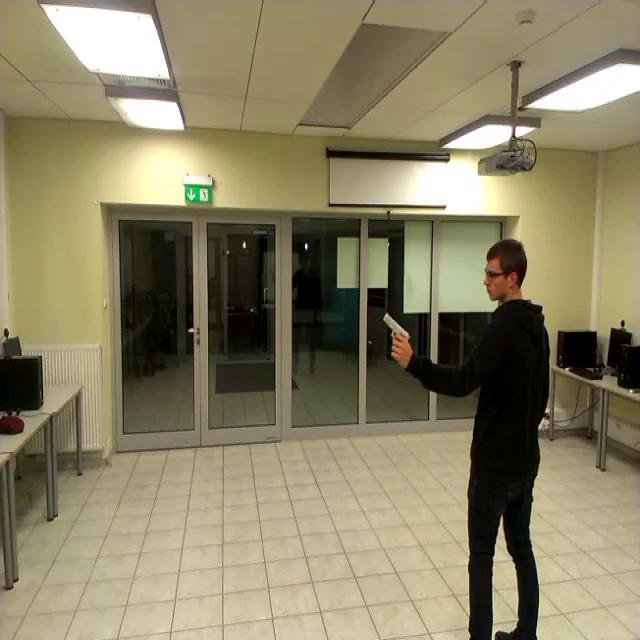Gun: (384, 312, 412, 356)
